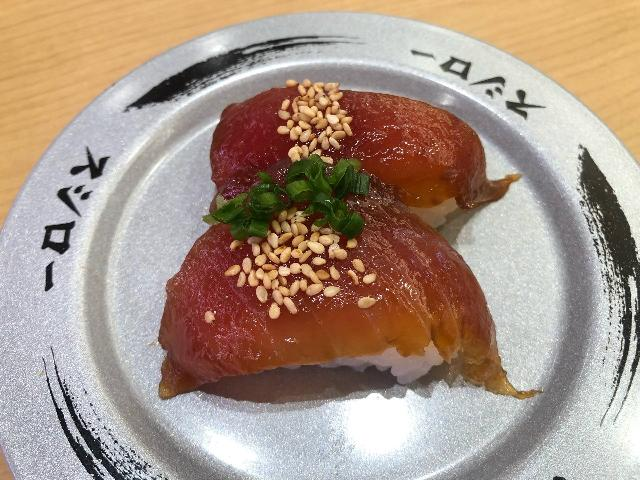janwhite: (483, 42, 640, 480), (0, 132, 173, 480), (81, 3, 482, 102)
